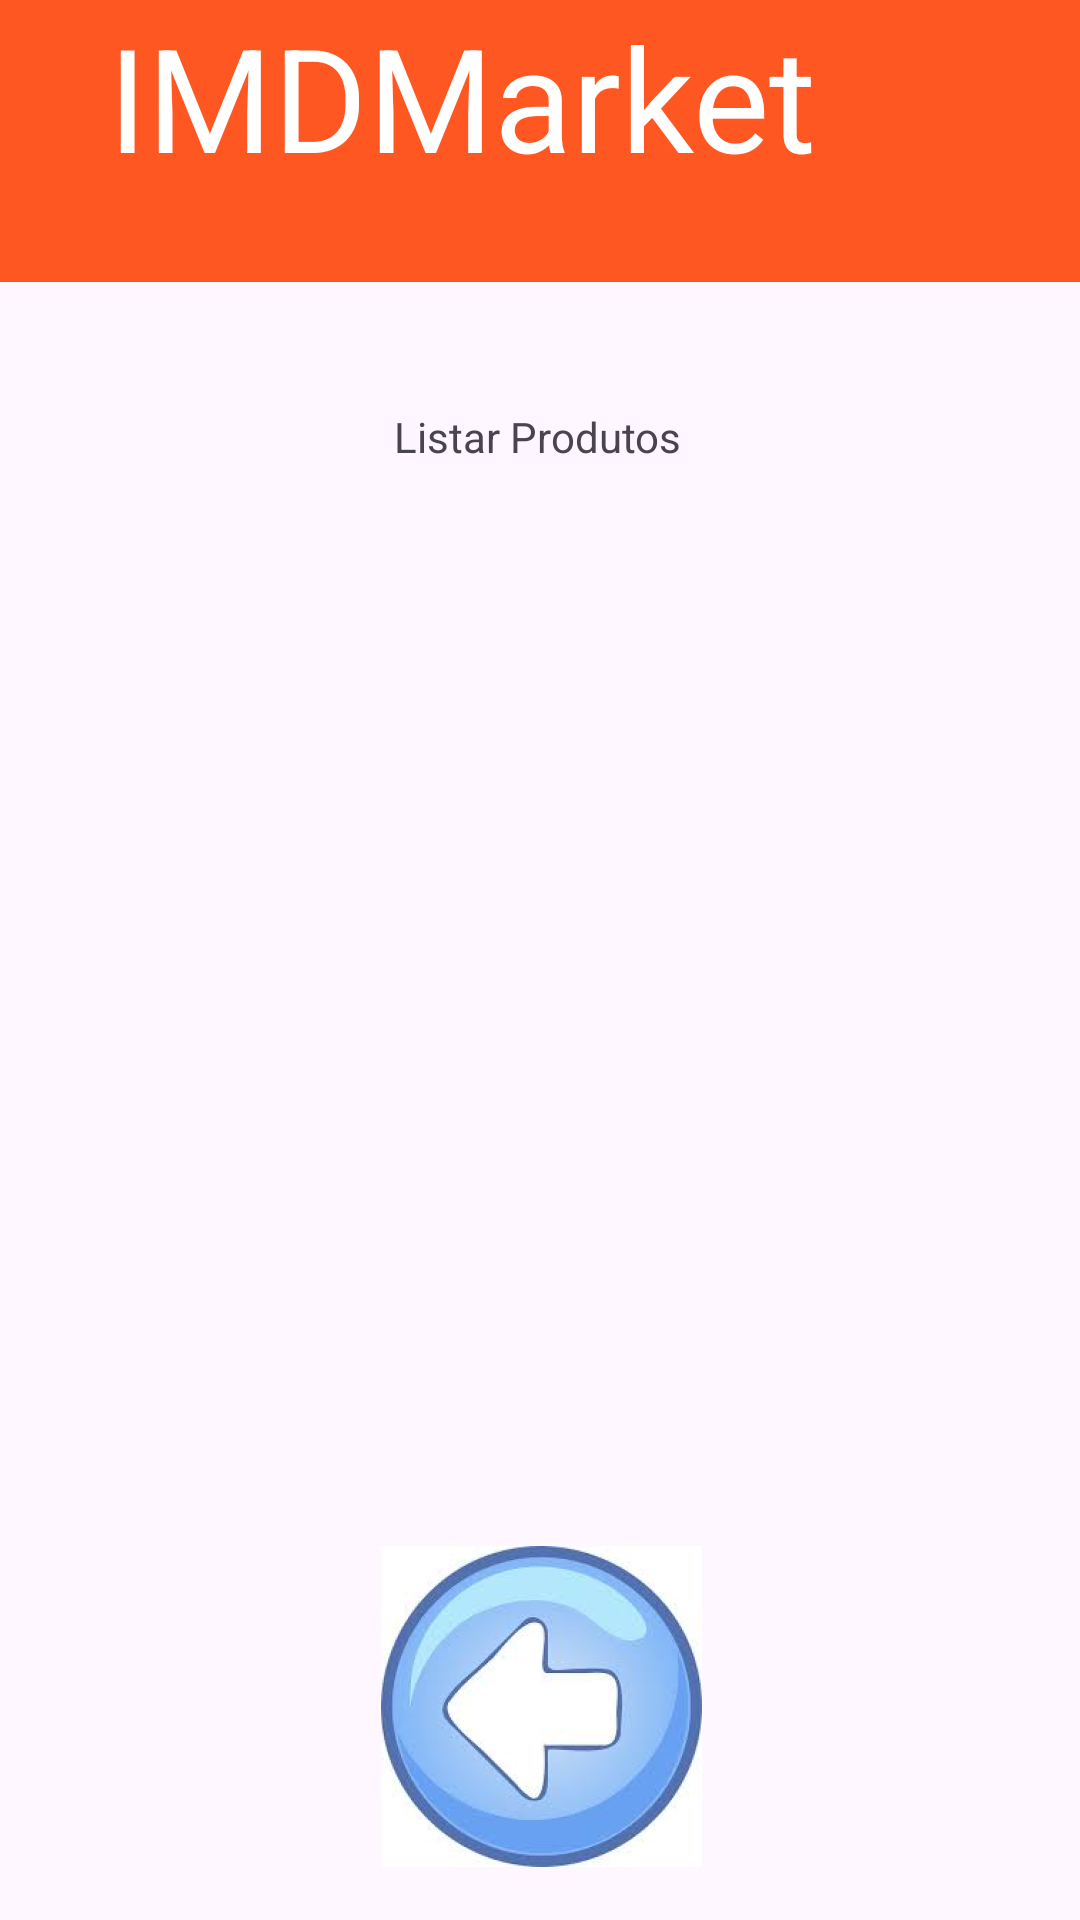

Named icons in this screenshot (1080 × 1920) and their bounding boxes, (x1, y1, x2, y2):
Voltar: (381, 1546, 702, 1867)
